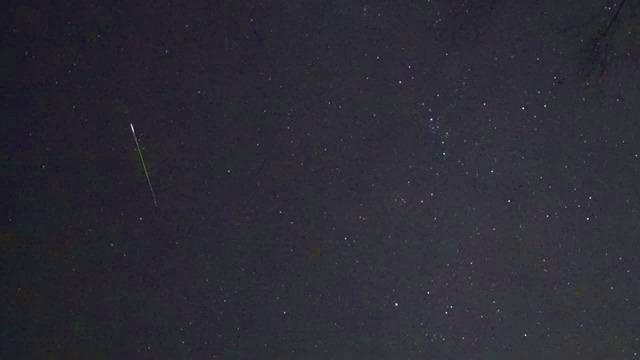meteorite: (115, 115, 166, 219)
